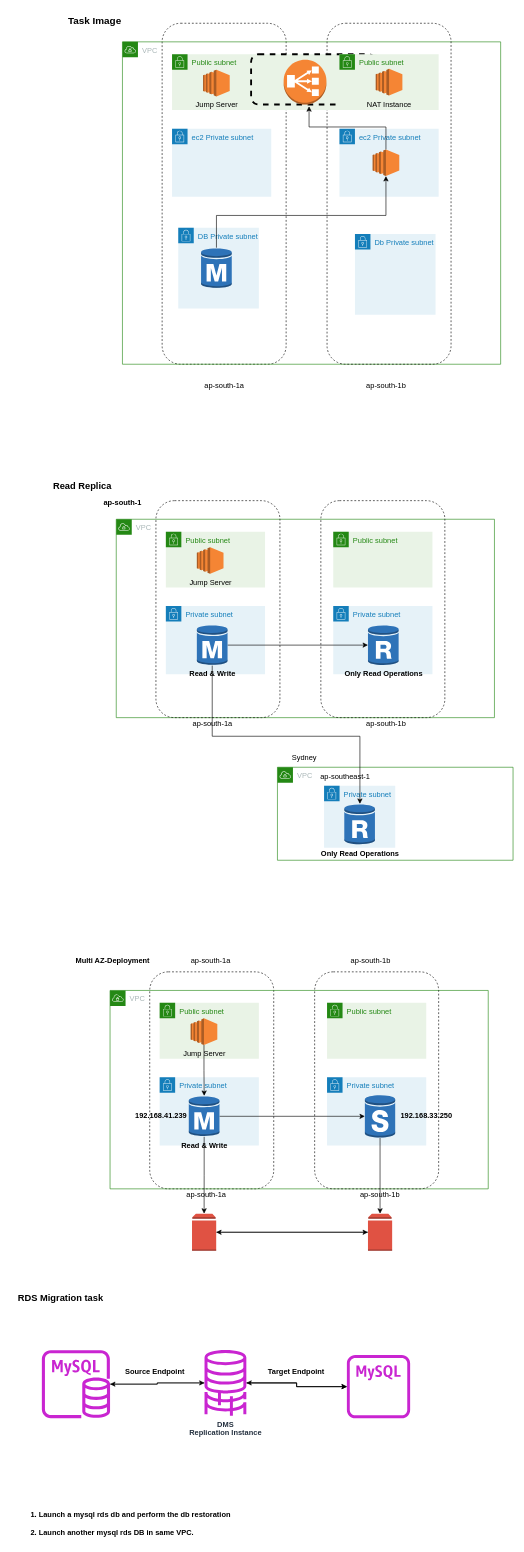
Some shapes in this 524 by 1552 pixel diagram are drawn without their labels. Each missing label, with the centre of its shape:
"mysql database" goes at (216,268).
"Source RDS" goes at (76,1384).
"Target RDS" goes at (378,1386).
"web server" goes at (385,162).
